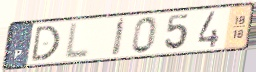0: (130, 15, 160, 55)
4: (197, 10, 221, 49)
5: (162, 12, 193, 51)
D: (29, 24, 62, 63)
I: (110, 17, 128, 58)
L: (62, 20, 92, 61)
